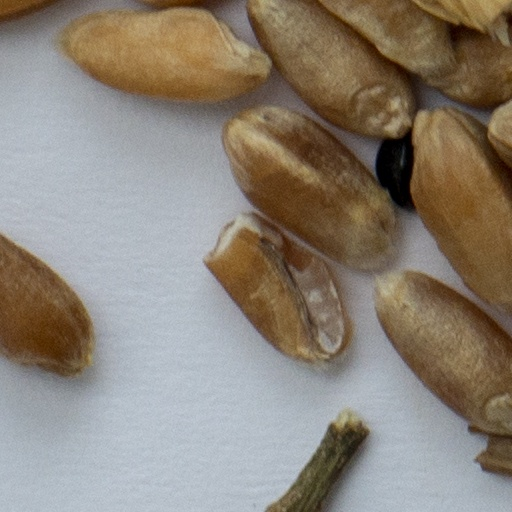Wheat-grain-damaged-poly: (203, 212, 357, 372)
